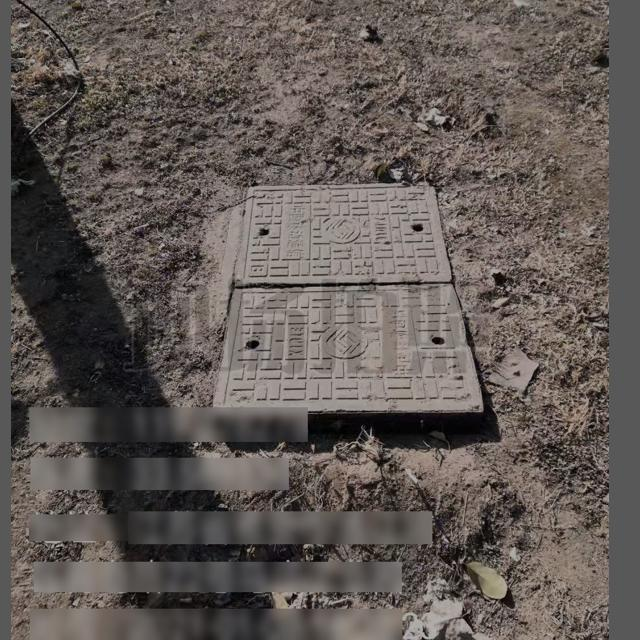uncovered: (212, 182, 492, 437)
